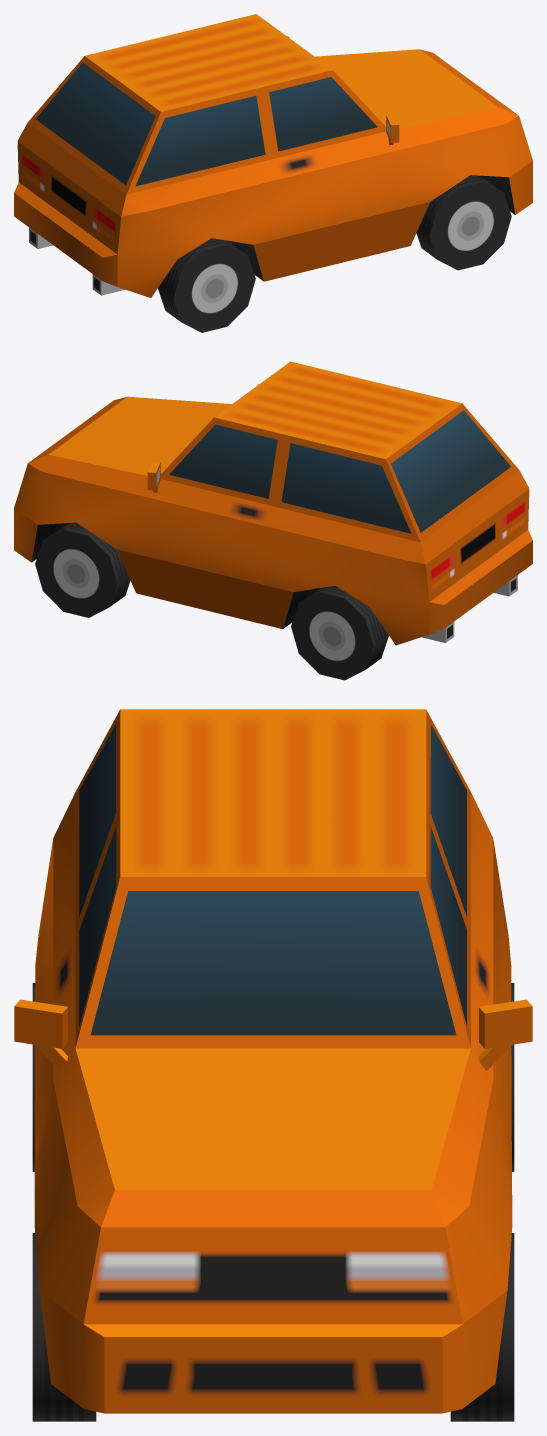
The model's file is Car_043.glb.
3 views of the same model, one above another, from view 1: azimuth 30°, elevation 25°; view 2: azimuth 150°, elevation 25°; view 3: azimuth 270°, elevation 25° (orthographic). The views are drawn at different scales.
Parts seen in each view (by area): view 1: Car_043, wheel_3_Car_043_Wheel_2R, wheel_1_Car_043_Wheel_1R; view 2: Car_043, wheel_2_Car_043_Wheel_2L, wheel_0_Car_043_Wheel_1L; view 3: Car_043, wheel_0_Car_043_Wheel_1L, wheel_1_Car_043_Wheel_1R.
Boxes of the visible parts, x1=… form: Car_043: x1=14, y1=14, x2=532, y2=297; wheel_3_Car_043_Wheel_2R: x1=158, y1=238, x2=255, y2=332; wheel_1_Car_043_Wheel_1R: x1=416, y1=175, x2=511, y2=270; Car_043: x1=14, y1=361, x2=532, y2=645; wheel_2_Car_043_Wheel_2L: x1=291, y1=585, x2=388, y2=680; wheel_0_Car_043_Wheel_1L: x1=35, y1=522, x2=130, y2=617; Car_043: x1=14, y1=709, x2=532, y2=1413; wheel_0_Car_043_Wheel_1L: x1=450, y1=1233, x2=514, y2=1421; wheel_1_Car_043_Wheel_1R: x1=32, y1=1233, x2=96, y2=1421.
Bounding box in the file's own units: 3.81 × 1.77 × 1.98.
Materials: 1 (1 with a texture image).
